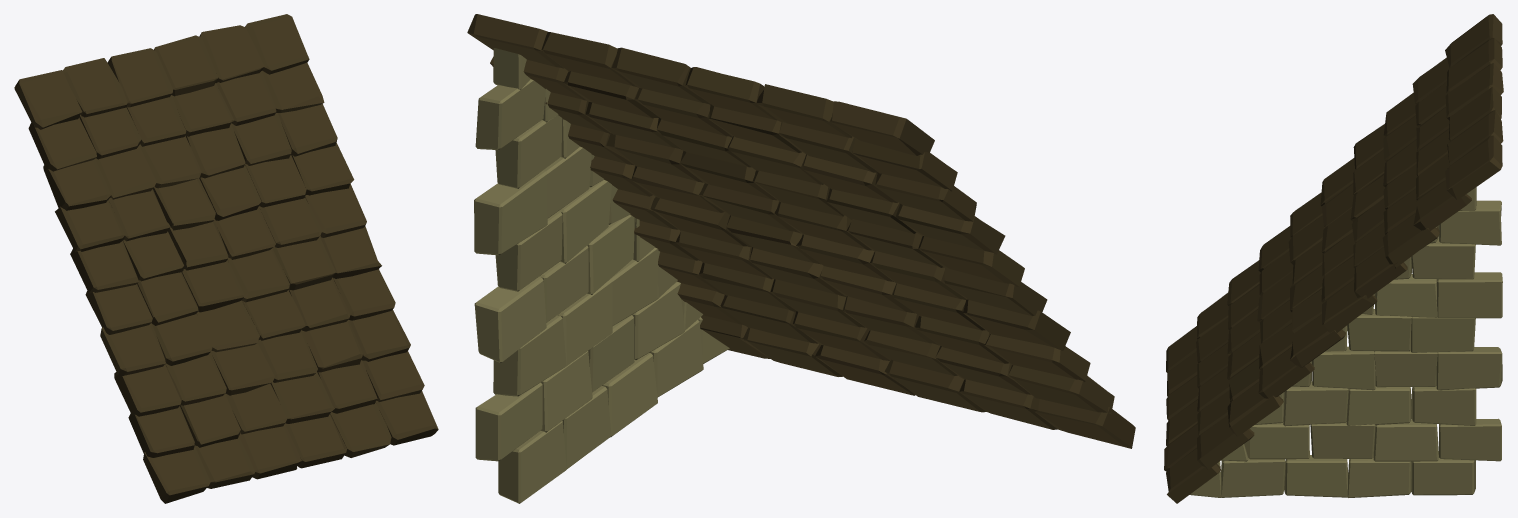
File: BrickWall-Sandstone-Roof-Right.fbx
3 renders of one model, left to right at view 1: azimuth 30°, elevation 25°; view 2: azimuth 150°, elevation 25°; view 3: azimuth 270°, elevation 25°, orthographic. The views are drawn at different scales.
Visible parts, largest first — view 1: Cube.011; view 2: Cube.011, Stone Base wall.015; view 3: Cube.011, Stone Base wall.015.
Part boxes in pixels (x1,y1,x2,y2): Cube.011: (14,14,438,503); Cube.011: (467,14,1135,448); Stone Base wall.015: (474,48,729,503); Cube.011: (1164,14,1503,503); Stone Base wall.015: (1189,187,1502,497).
Size of the model in its own units: 883 by 973 by 857.
